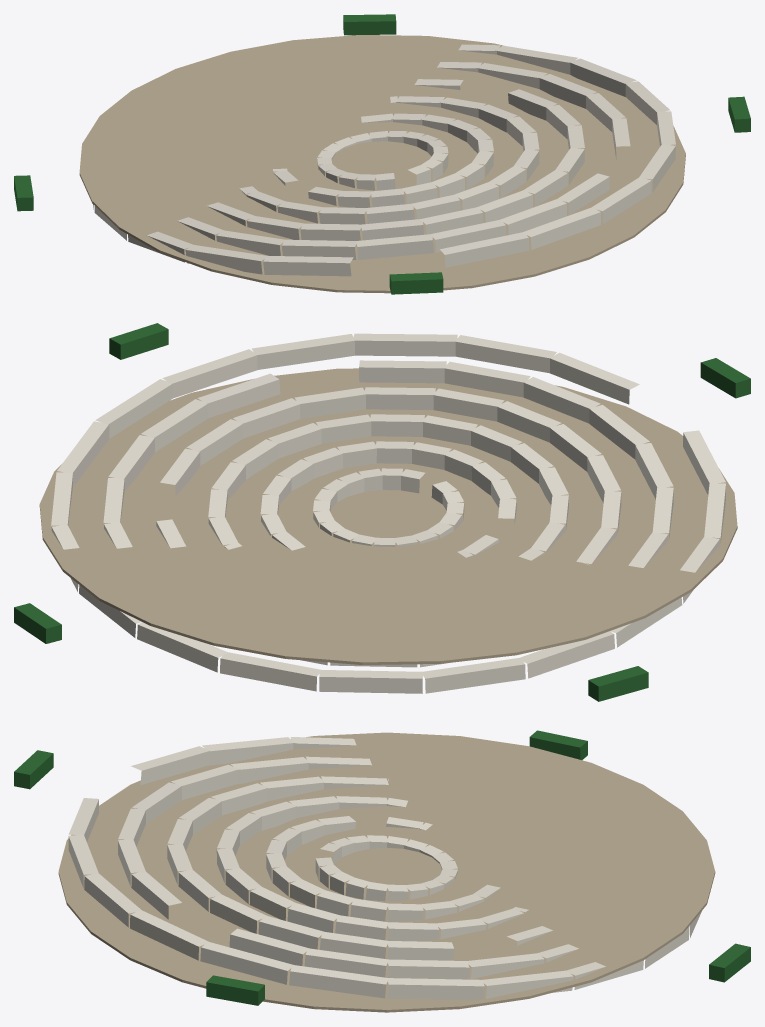
Rendered from peace_labyrinth.glb.
3 renders of one model, top to bottom at view 1: azimuth 30°, elevation 25°; view 2: azimuth 150°, elevation 25°; view 3: azimuth 270°, elevation 25°, orthographic. The views are drawn at different scales.
Parts seen in each view (by area): view 1: peace_labyrinth_lod0; view 2: peace_labyrinth_lod0; view 3: peace_labyrinth_lod0.
Boxes of the visible parts, box(x1,y1,x2,y2) form: peace_labyrinth_lod0: box(14, 14, 750, 294); peace_labyrinth_lod0: box(14, 323, 750, 701); peace_labyrinth_lod0: box(14, 730, 750, 1012).
Size of what is drawn, in the model's own units: 21.12 by 2.34 by 20.88.
